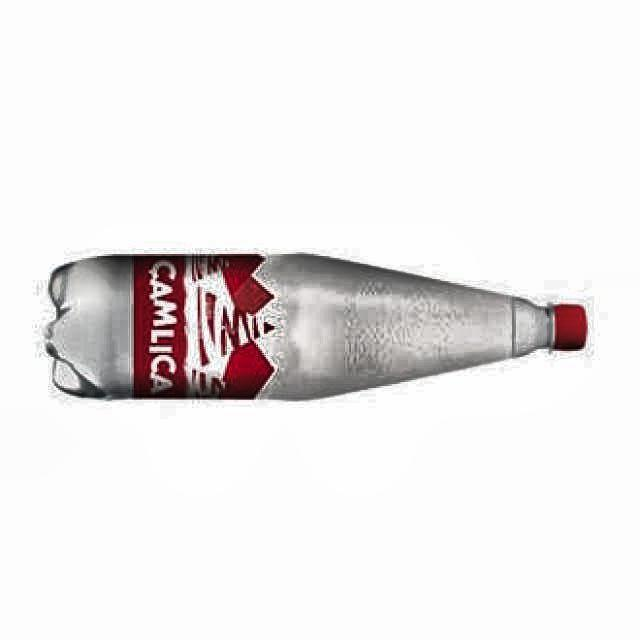plastic: (46, 254, 586, 399)
